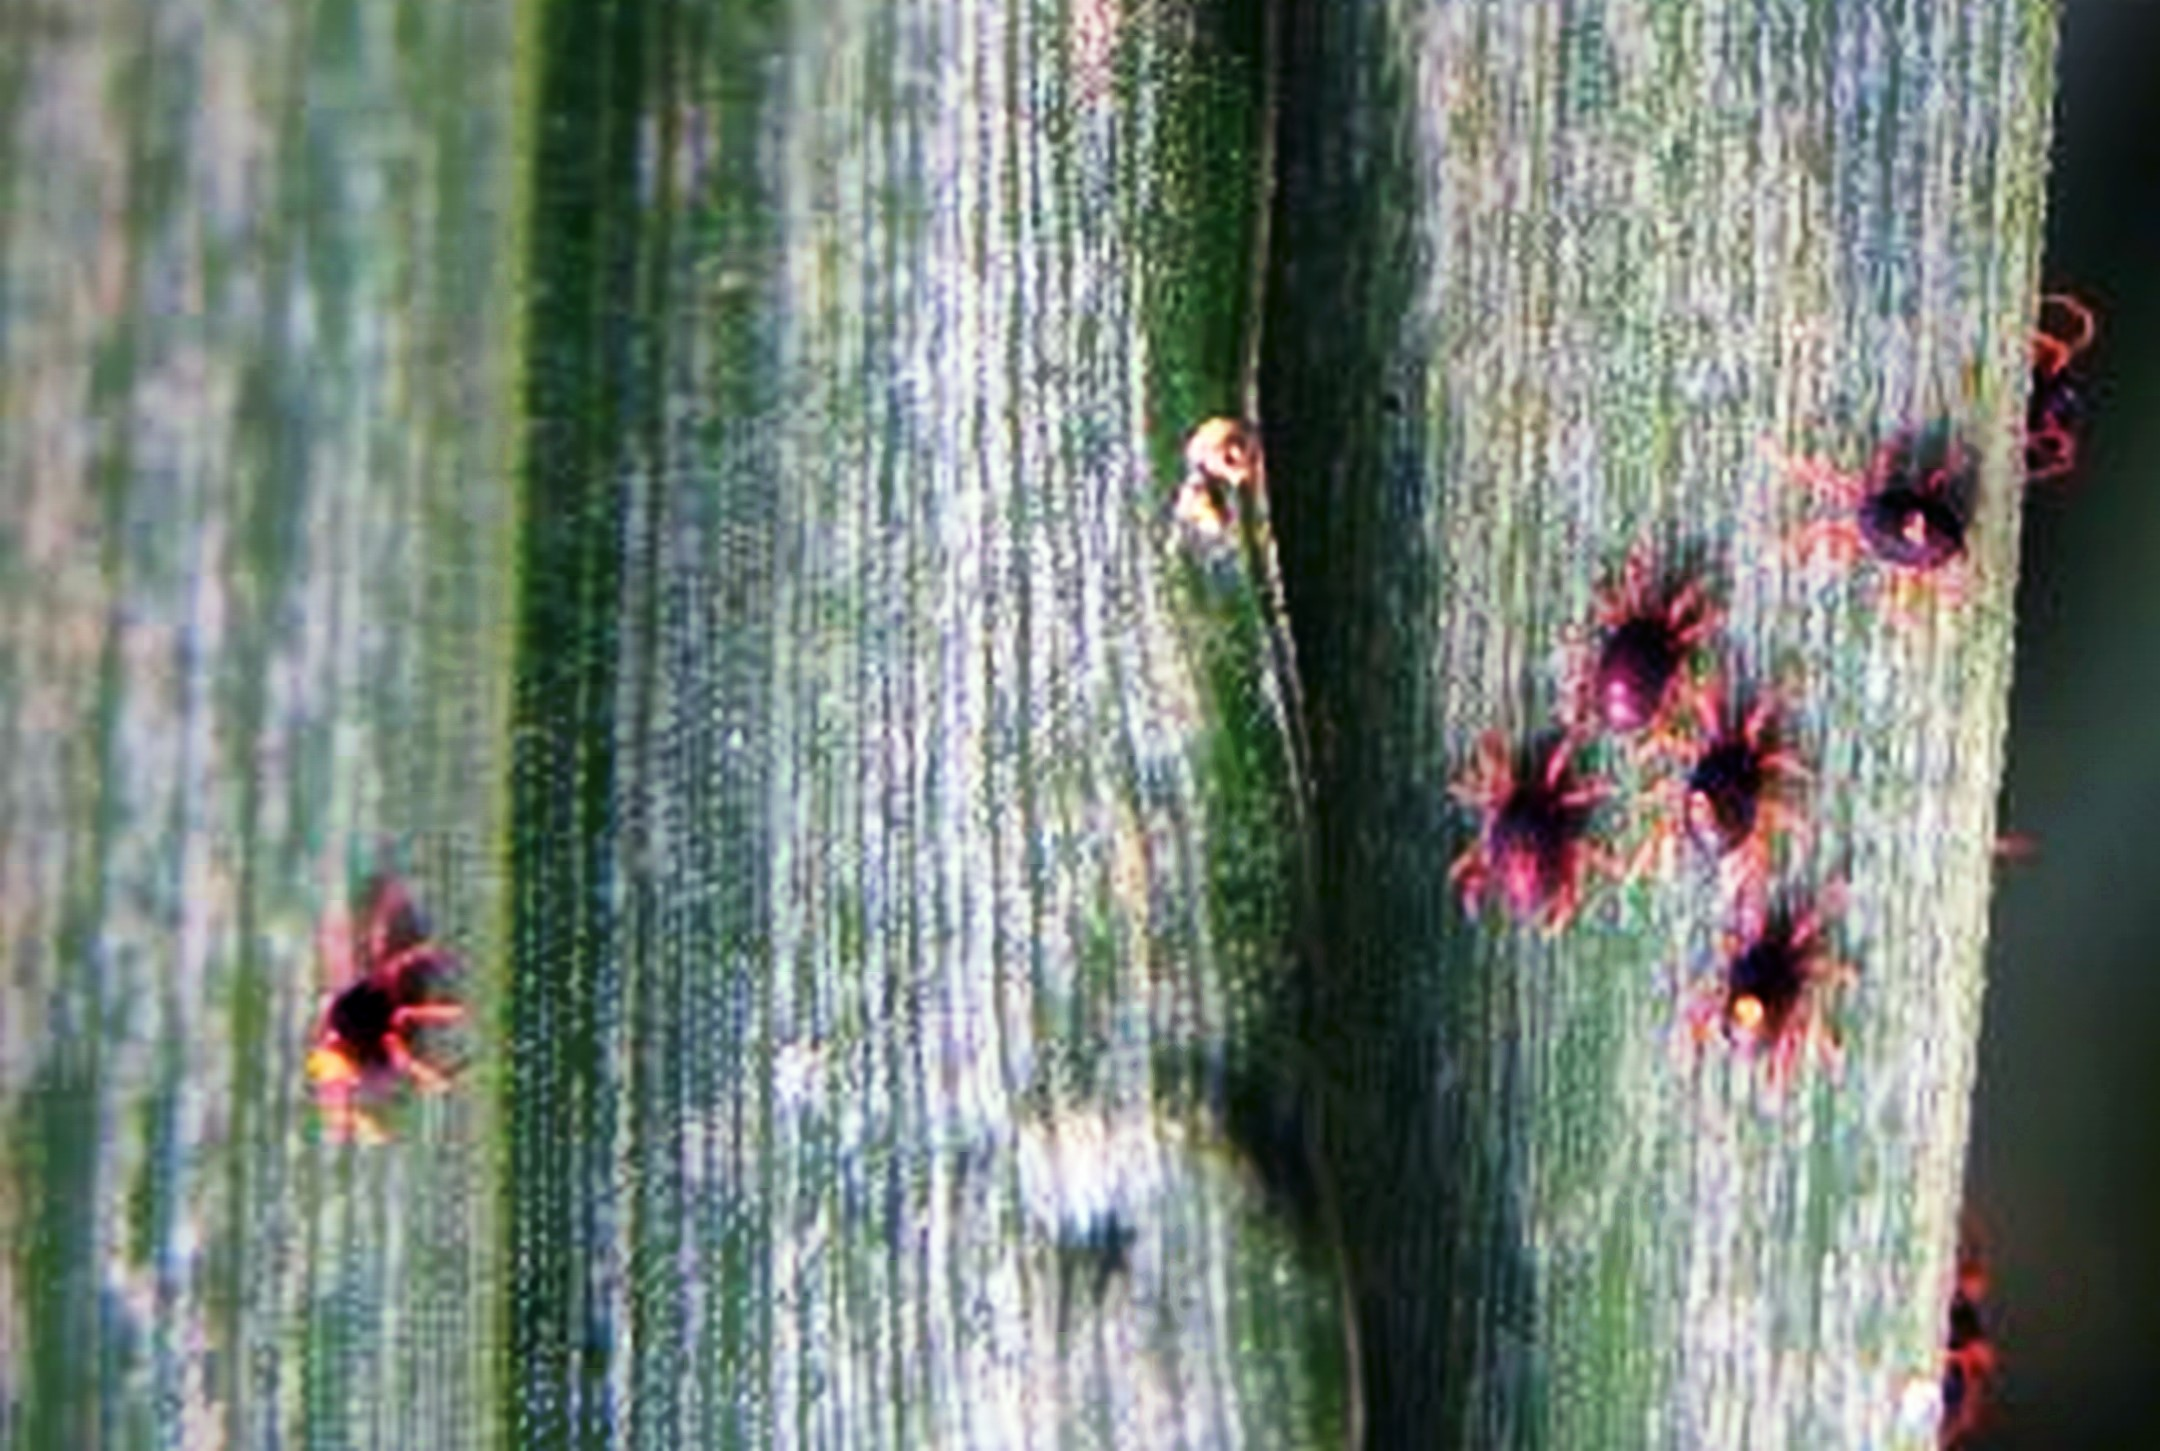Wheat Red Spider: (1409, 530, 1865, 1147)
